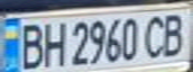0: (121, 14, 142, 61)
2: (66, 17, 90, 66)
6: (103, 15, 127, 63)
9: (87, 16, 109, 65)
B: (12, 19, 45, 70), (157, 10, 190, 58)
C: (139, 11, 172, 60)
H: (36, 18, 69, 69)
